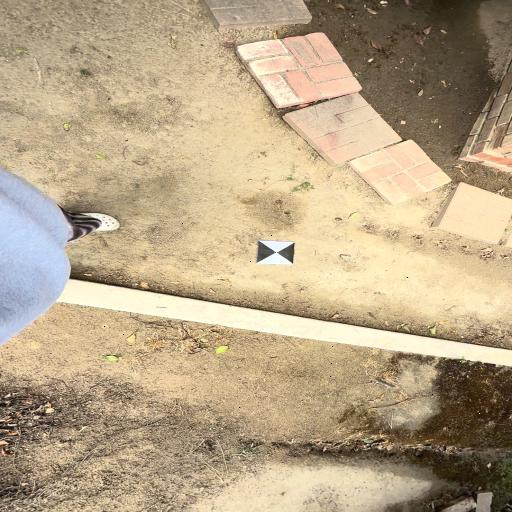target: (258, 240, 295, 264)
